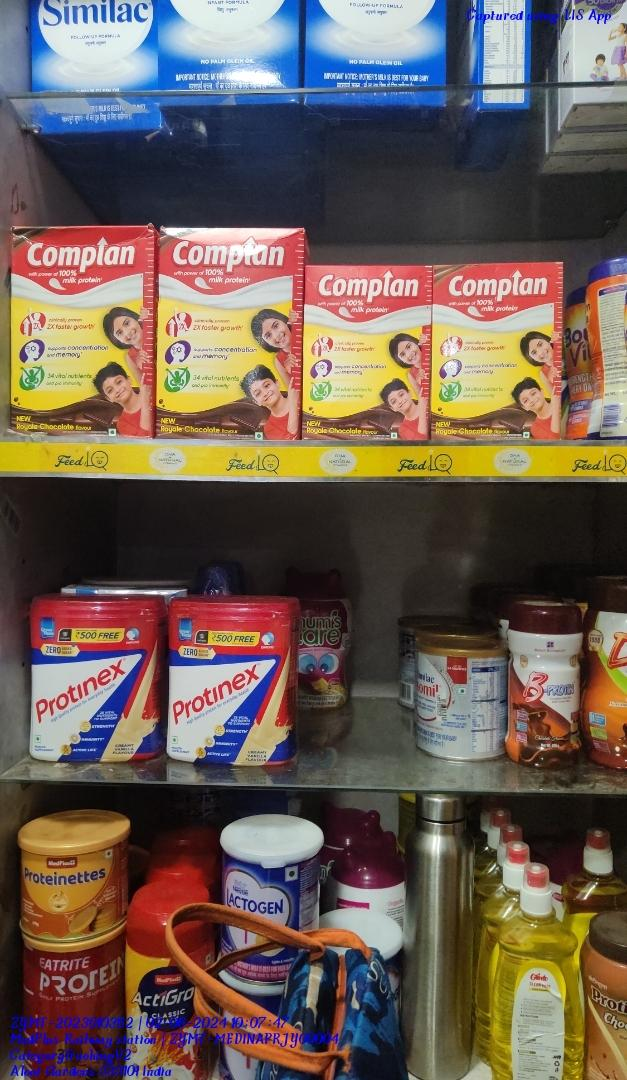PROTINEX_VANILLA_400_G_JAR: (27, 594, 160, 765), (168, 599, 294, 767)
